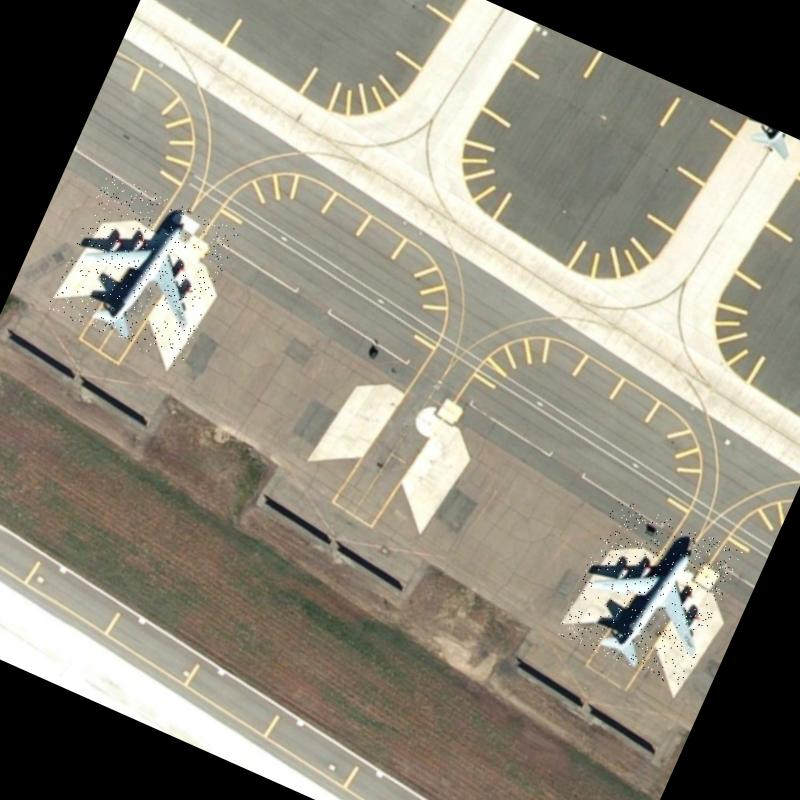A11: (47, 172, 241, 368), (556, 496, 743, 690)
